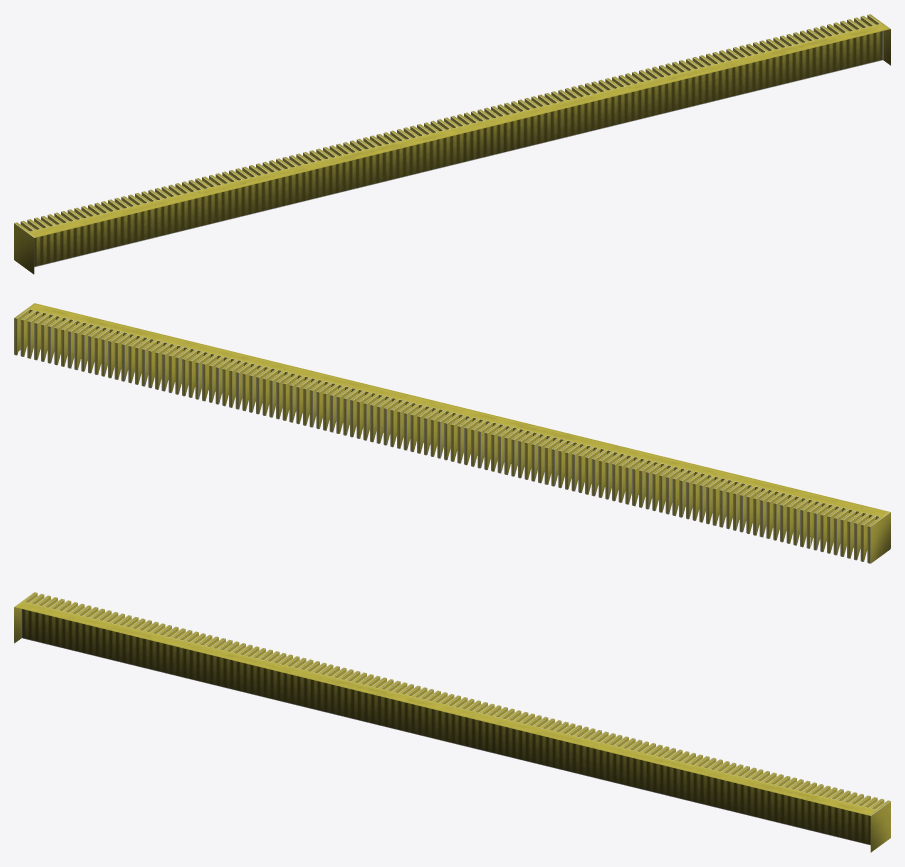
3 views of the same model, one above another, from view 1: azimuth 30°, elevation 25°; view 2: azimuth 150°, elevation 25°; view 3: azimuth 330°, elevation 25° (orthographic).
Parts seen in each view (by area): view 1: platform_gap_filler_inner_area, platform_gap_filler_main, platform_gap_filler_branch_polyfill, platform_gap_filler_end_left; view 2: platform_gap_filler_main, platform_gap_filler_branch_polyfill, platform_gap_filler_inner_area, platform_gap_filler_end_left; view 3: platform_gap_filler_inner_area, platform_gap_filler_main, platform_gap_filler_branch_polyfill, platform_gap_filler_end_right.
Part boxes in pixels (box(x1,y1,x2,y2)): platform_gap_filler_inner_area: box(34, 31, 883, 267); platform_gap_filler_main: box(14, 14, 890, 237); platform_gap_filler_branch_polyfill: box(20, 15, 878, 231); platform_gap_filler_end_left: box(14, 223, 34, 274); platform_gap_filler_main: box(14, 303, 890, 563); platform_gap_filler_branch_polyfill: box(17, 310, 876, 560); platform_gap_filler_inner_area: box(29, 309, 878, 547); platform_gap_filler_end_left: box(870, 512, 890, 563); platform_gap_filler_inner_area: box(21, 609, 870, 845); platform_gap_filler_main: box(14, 592, 890, 815); platform_gap_filler_branch_polyfill: box(26, 593, 884, 809); platform_gap_filler_end_right: box(870, 801, 890, 852).
Bounding box in the file's own units: 1.99 × 0.082 × 0.082.
2 materials, 2 textured.
